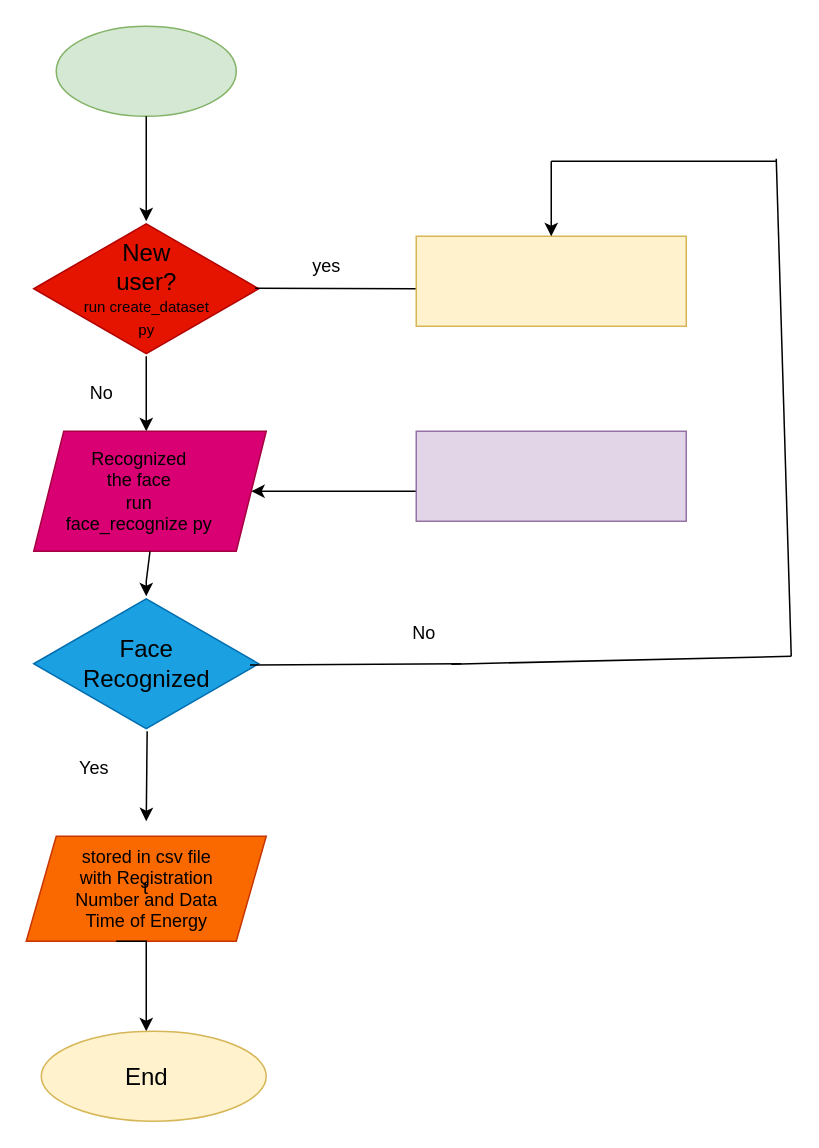
Image size: 819x1148. Some labels were removed from this diagram. Each missing label, with the centre of its shape:
"Give your photograph" belongs at (550,280).
"Start" belongs at (145,70).
"Store the face data in folder on your name" belongs at (550,475).
